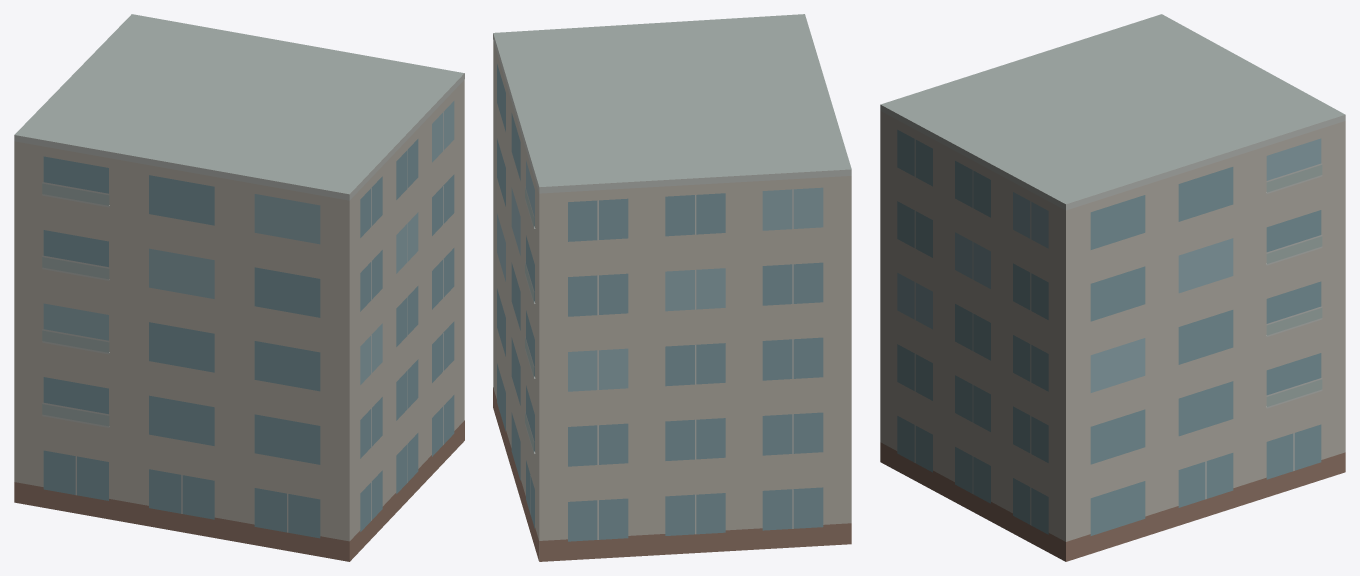
Rendered from survey-upis-32845867.glb.
3 views of the same model, side by side, from view 1: azimuth 30°, elevation 25°; view 2: azimuth 150°, elevation 25°; view 3: azimuth 270°, elevation 25° (orthographic). The views are drawn at different scales.
Visible parts, largest first — view 1: survey-upis-32845867.tmp; view 2: survey-upis-32845867.tmp; view 3: survey-upis-32845867.tmp.
Boxes of the visible parts, x1=… form: survey-upis-32845867.tmp: x1=14, y1=14, x2=464, y2=561; survey-upis-32845867.tmp: x1=493, y1=14, x2=851, y2=561; survey-upis-32845867.tmp: x1=880, y1=14, x2=1345, y2=561.
Bounding box in the file's own units: 16.22 × 14.2 × 16.76.
